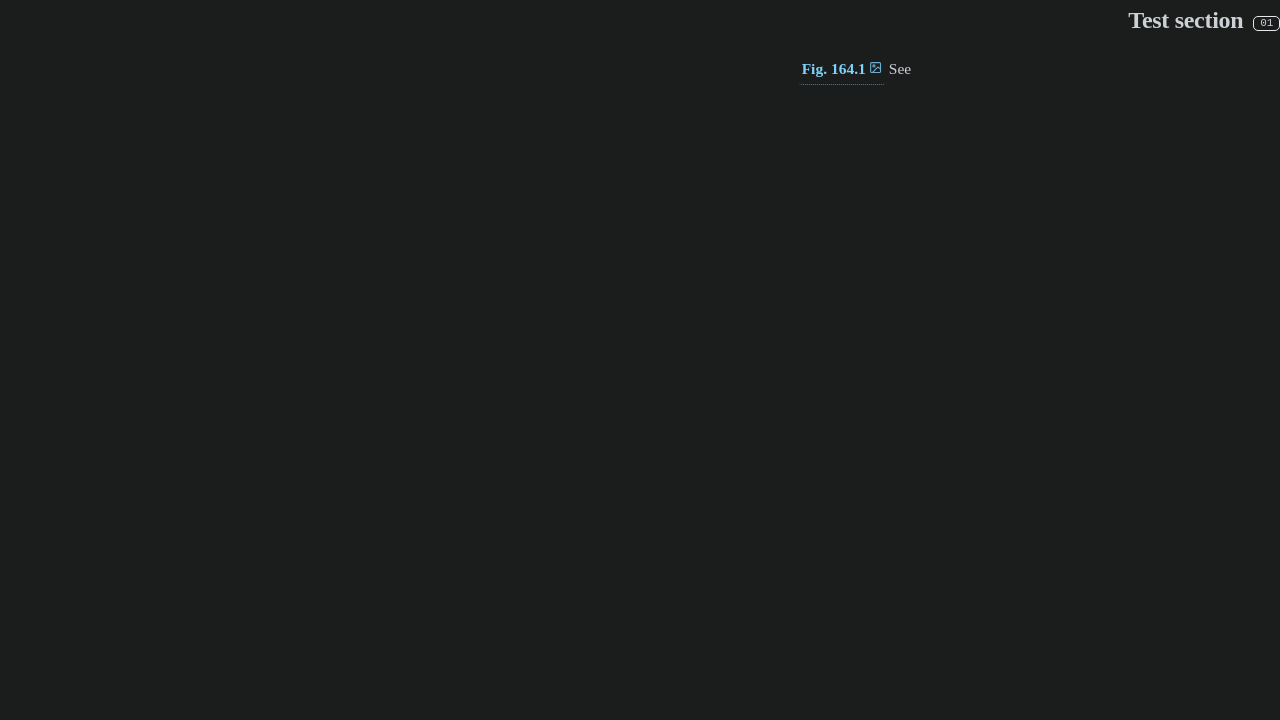
Test case: Media reader pipeline (Phase 1) › early anchor click waits for the chapter registry before deciding fallback
Click the button "Fig. 164.1".
click(842, 70)  # box [799,54,885,85]
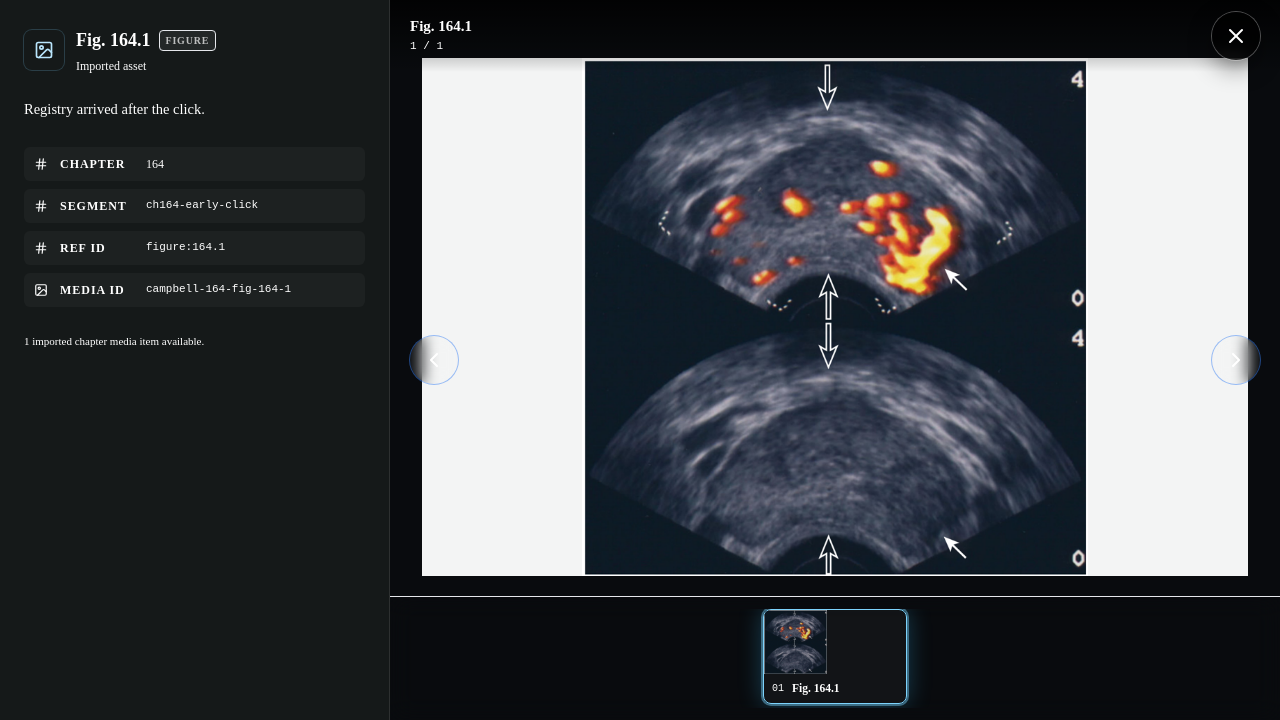
Now the text "Imported asset" is shown, box [76,59,146,73]
